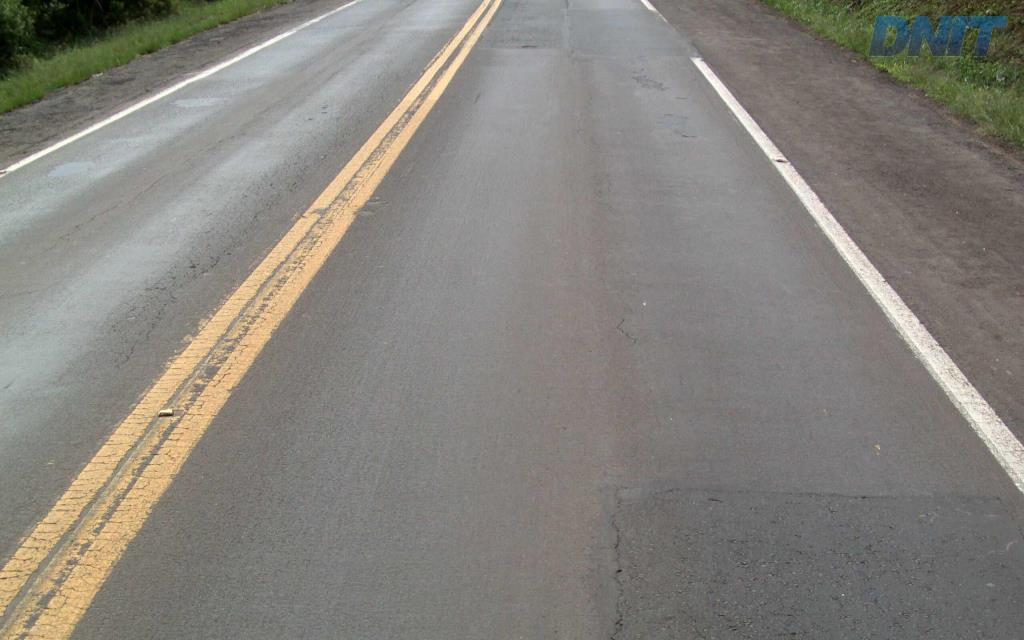crack: (769, 609, 809, 639)
